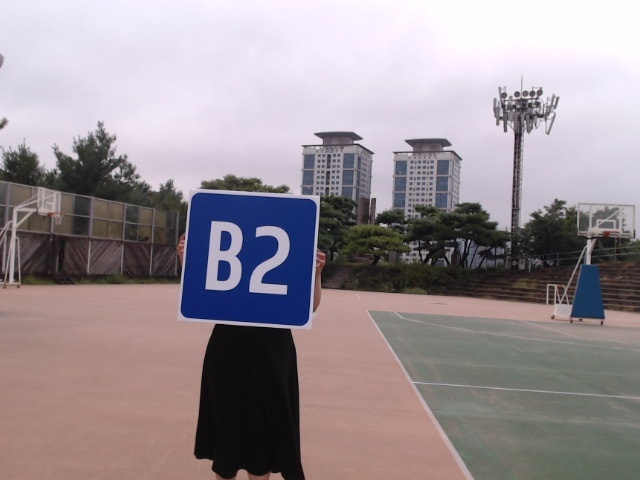delivery_b2: (178, 192, 319, 328)
